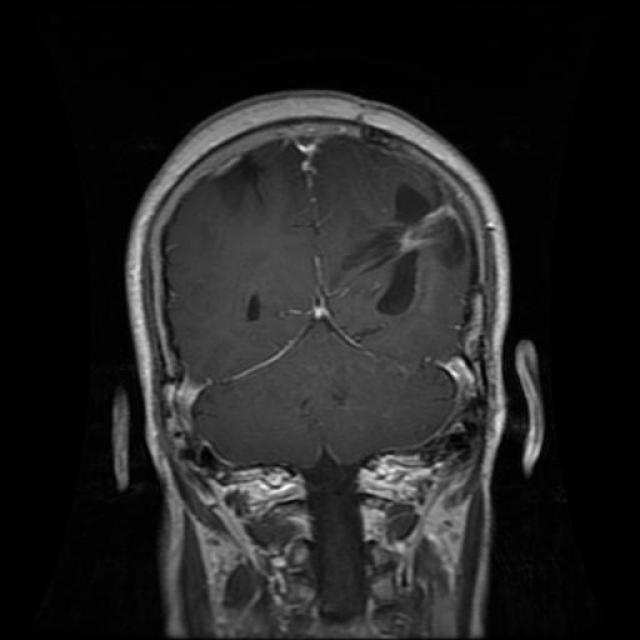glioma: (350, 176, 460, 322)
